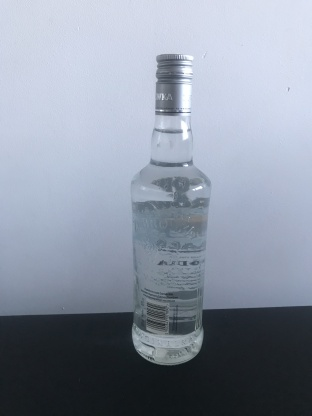nakretka: (154, 51, 193, 117)
